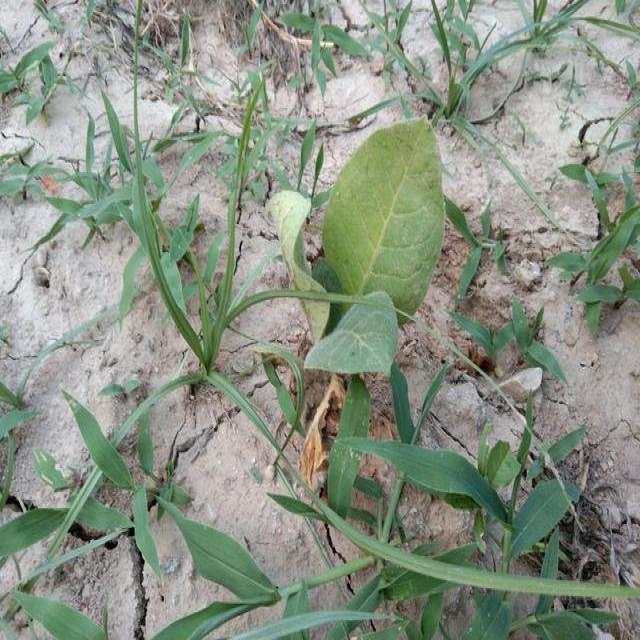crop: (276, 120, 446, 377)
